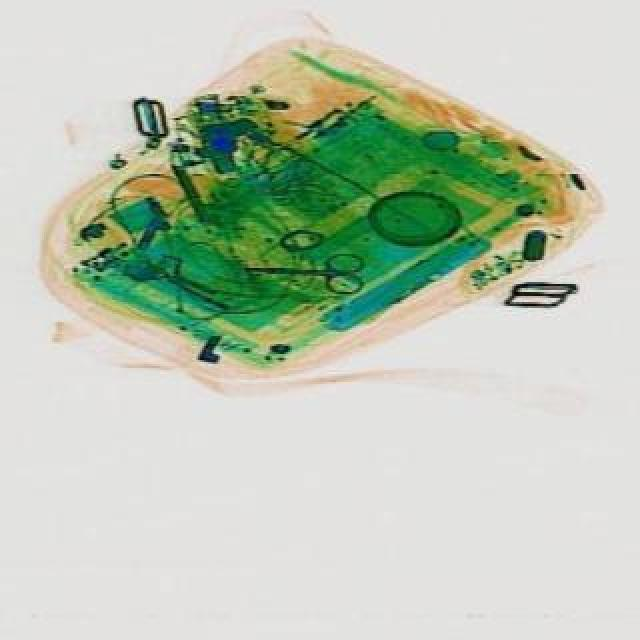pliers: (246, 252, 370, 300)
